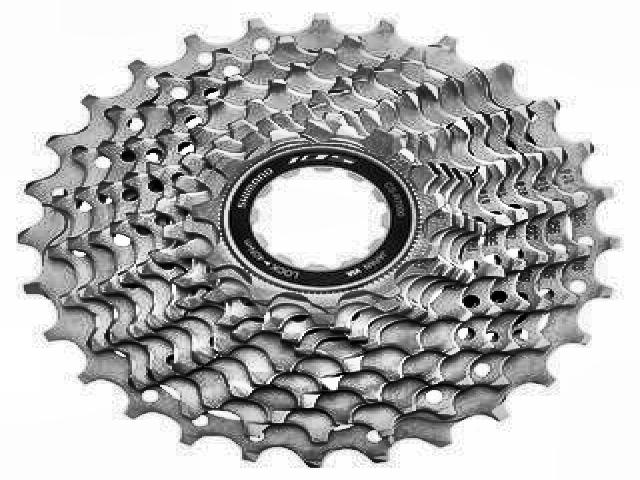cassette: (18, 11, 623, 469)
